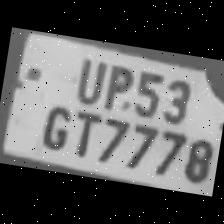3: (158, 72, 196, 124)
5: (126, 64, 165, 118)
7: (92, 110, 130, 166), (120, 116, 156, 172), (147, 124, 184, 178)
8: (177, 132, 216, 186)
G: (35, 99, 75, 154)
P: (98, 57, 136, 114)
T: (66, 106, 102, 160)
U: (69, 52, 109, 106)
